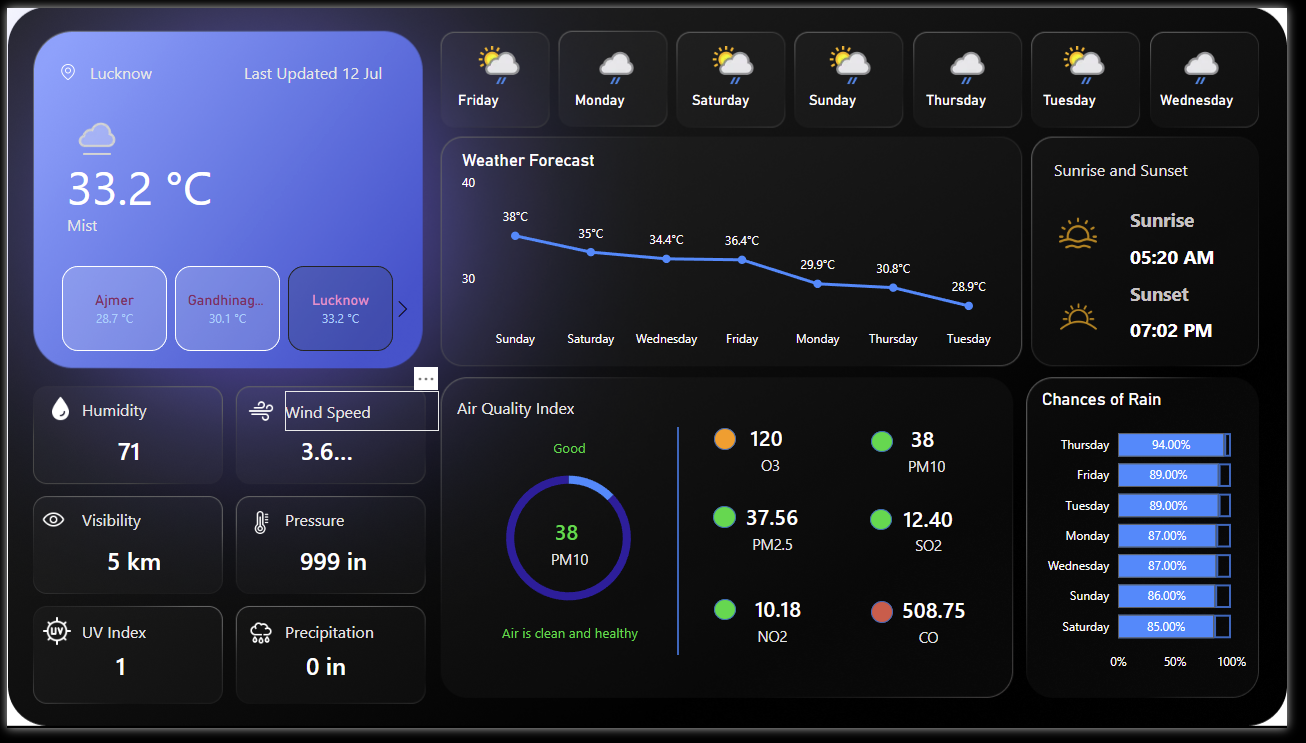

What the dashboard file says about the page in this screenshot:
{"tool":"powerbi","page":{"name":"Page 1","canvas":[1280,720],"ordinal":0},"visuals":[{"type":"advancedSlicerVisual","fields":{"Values":["Locations.location.name"]},"box":[30.1,252.9,381.4,95.4],"z":0},{"type":"shape","box":[60.3,105,211.1,104.1],"z":1000},{"type":"shape","box":[60.3,197.4,154.7,38.9],"z":2000},{"type":"shape","box":[83.3,44.8,154.1,39.6],"z":3000},{"type":"shape","box":[237.5,44.8,154.1,39.6],"z":4000},{"type":"image","box":[29.2,51,62.5,26],"z":5000},{"type":"cardVisual","fields":{"Data":["Min(Current.current.condition.icon)"]},"box":[46.9,84.4,71.9,67.7],"z":6000},{"type":"image","box":[31.2,383.3,43.7,34.4],"z":7000},{"type":"shape","box":[75,381.2,154.1,39.6],"z":8000},{"type":"shape","box":[278.1,383.3,154.1,39.6],"z":9000},{"type":"shape","box":[75,491.6,154.1,39.6],"z":10000},{"type":"shape","box":[278.1,491.6,154.1,39.6],"z":11000},{"type":"shape","box":[75,603,154.1,39.6],"z":12000},{"type":"shape","box":[278.1,603,154.1,39.6],"z":13000},{"type":"image","box":[24,603,51,39.6],"z":14000},{"type":"image","box":[20.8,493.7,51,35.4],"z":15000},{"type":"image","box":[229.1,385.4,49,35.4],"z":16000},{"type":"image","box":[229.1,497.8,50,33.3],"z":17000},{"type":"image","box":[229.1,607.2,50,35.4],"z":18000},{"type":"cardVisual","fields":{"Data":["Sum(Current.current.humidity)"]},"box":[75,401,93.7,70.8],"z":19000},{"type":"cardVisual","fields":{"Data":["_Measures.wind_speed"]},"box":[254.1,401,111.4,70.8],"z":20000},{"type":"cardVisual","fields":{"Data":["_Measures.visibility_km"]},"box":[71.9,511.4,110.4,70.8],"z":21000},{"type":"cardVisual","fields":{"Data":["_Measures.pressure"]},"box":[261.4,511.4,130.2,70.8],"z":22000},{"type":"cardVisual","fields":{"Data":["Sum(Current.current.uv)"]},"box":[66.7,615.5,93.7,70.8],"z":23000},{"type":"cardVisual","fields":{"Data":["_Measures.precipt"]},"box":[271.8,615.5,93.7,70.8],"z":24000},{"type":"advancedSlicerVisual","fields":{"Values":["Forecast_Day.Day_Name"]},"box":[432.5,13.5,825.7,104.5],"z":25000},{"type":"lineChart","title":"Weather Forecast","fields":{"Y":["Sum(Forecast_Day.forecast.forecastday.day.avgtemp_c)"],"Category":["Forecast_Day.Day_Name"]},"box":[450.5,141.6,546.3,207.4],"z":26000},{"type":"shape","box":[1047,141.6,153.9,39],"z":27000},{"type":"shape","box":[1122.8,224.1,146.1,36.8],"z":28000},{"type":"shape","box":[1122.8,297.7,146.1,36.8],"z":29000},{"type":"shape","box":[1122.8,172.8,146.1,51.3],"z":30000},{"type":"shape","box":[1122.8,260.9,146.1,36.8],"z":31000},{"type":"image","box":[1047,199.6,47.9,49.1],"z":32000},{"type":"image","box":[1039.2,278.7,64.7,59.1],"z":33000},{"type":"hundredPercentStackedBarChart","title":"Chances of Rain","fields":{"Y":["Sum(Forecast_Day.forecast.forecastday.day.daily_chance_of_rain)","_Measures.Left_Value_Rain"],"Category":["Forecast_Day.Day_Name"]},"box":[1030.2,381.3,214.1,291],"z":34000},{"type":"shape","box":[450.5,380.2,155,39],"z":35000},{"type":"cardVisual","fields":{"Data":["Sum(Current.current.air_quality.pm10)"]},"box":[867.5,391.4,97,65.8],"z":36000},{"type":"shape","box":[841.8,438.2,155,39],"z":37000},{"type":"cardVisual","fields":{"Data":["Sum(Current.current.air_quality.so2)"]},"box":[875.3,470.5,91.4,65.8],"z":38000},{"type":"shape","box":[844,517.3,155,39],"z":39000},{"type":"cardVisual","fields":{"Data":["Sum(Current.current.air_quality.co)"]},"box":[875.3,562,103.7,65.8],"z":40000},{"type":"shape","box":[844,608.7,155,39],"z":41000},{"type":"cardVisual","fields":{"Data":["Sum(Current.current.air_quality.o3)"]},"box":[711.3,390.2,97,65.8],"z":42000},{"type":"shape","box":[685.7,437,155,39],"z":43000},{"type":"cardVisual","fields":{"Data":["Sum(Current.current.air_quality.pm2_5)"]},"box":[719.1,469.4,91.4,65.8],"z":44000},{"type":"shape","box":[687.9,516.2,155,39],"z":45000},{"type":"cardVisual","fields":{"Data":["Sum(Current.current.air_quality.no2)"]},"box":[719.1,560.8,103.7,65.8],"z":46000},{"type":"shape","box":[687.8,607.6,155,39],"z":47000},{"type":"shape","box":[864.2,422.5,21.7,21.7],"z":48000},{"type":"shape","box":[864.2,593.3,21.7,21.7],"z":49000},{"type":"shape","box":[863.1,500.8,22.3,21.5],"z":50000},{"type":"shape","box":[707.5,420,21.7,21.7],"z":51000},{"type":"shape","box":[707.5,590.8,21.7,21.7],"z":52000},{"type":"shape","box":[706.4,498.3,22.3,21.5],"z":53000},{"type":"shape","box":[596,419,150,228],"z":54000},{"type":"cardVisual","fields":{"Data":["Sum(Current.current.air_quality.pm10)"]},"box":[510.6,483.7,97,65.8],"z":55000},{"type":"shape","box":[484.9,530.5,155,39],"z":56000},{"type":"donutChart","fields":{"Y":["Sum(Current.current.air_quality.pm10)","_Measures.Reamaining_PM10"]},"box":[458.9,446.7,205.6,166.7],"z":57000},{"type":"actionButton","box":[485,419,155,40],"z":57001},{"type":"actionButton","box":[460,598,206,53],"z":57002}]}

Visuals, with their boxes in screenshot pixels (x1, y1, x2, y2), scaled from the page's 1280x720 canvas onto the 1306x743 screenshot:
advancedSlicerVisual - Locations.location.name: 31:261:420:359
shape: 62:108:277:216
shape: 62:204:219:244
shape: 85:46:242:87
shape: 242:46:400:87
image: 30:53:94:79
cardVisual - Min(Current.current.condition.icon): 48:87:121:157
image: 32:396:76:431
shape: 77:393:234:434
shape: 284:396:441:436
shape: 77:507:234:548
shape: 284:507:441:548
shape: 77:622:234:663
shape: 284:622:441:663
image: 24:622:77:663
image: 21:509:73:546
image: 234:398:284:434
image: 234:514:285:548
image: 234:627:285:663
cardVisual - Sum(Current.current.humidity): 77:414:172:487
cardVisual - _Measures.wind_speed: 259:414:373:487
cardVisual - _Measures.visibility_km: 73:528:186:601
cardVisual - _Measures.pressure: 267:528:400:601
cardVisual - Sum(Current.current.uv): 68:635:164:708
cardVisual - _Measures.precipt: 277:635:373:708
advancedSlicerVisual - Forecast_Day.Day_Name: 441:14:1284:122
"Weather Forecast" lineChart: 460:146:1017:360
shape: 1068:146:1225:186
shape: 1146:231:1295:269
shape: 1146:307:1295:345
shape: 1146:178:1295:231
shape: 1146:269:1295:307
image: 1068:206:1117:257
image: 1060:288:1126:349
"Chances of Rain" hundredPercentStackedBarChart: 1051:393:1270:694
shape: 460:392:618:433
cardVisual - Sum(Current.current.air_quality.pm10): 885:404:984:472
shape: 859:452:1017:492
cardVisual - Sum(Current.current.air_quality.so2): 893:486:986:553
shape: 861:534:1019:574
cardVisual - Sum(Current.current.air_quality.co): 893:580:999:648
shape: 861:628:1019:668
cardVisual - Sum(Current.current.air_quality.o3): 726:403:825:471
shape: 700:451:858:491
cardVisual - Sum(Current.current.air_quality.pm2_5): 734:484:827:552
shape: 702:533:860:573
cardVisual - Sum(Current.current.air_quality.no2): 734:579:840:647
shape: 702:627:860:667
shape: 882:436:904:458
shape: 882:612:904:635
shape: 881:517:903:539
shape: 722:433:744:456
shape: 722:610:744:632
shape: 721:514:744:536
shape: 608:432:761:668
cardVisual - Sum(Current.current.air_quality.pm10): 521:499:620:567
shape: 495:547:653:588
donutChart - Sum(Current.current.air_quality.pm10) x _Measures.Reamaining_PM10: 468:461:678:633
actionButton: 495:432:653:474
actionButton: 469:617:680:672
